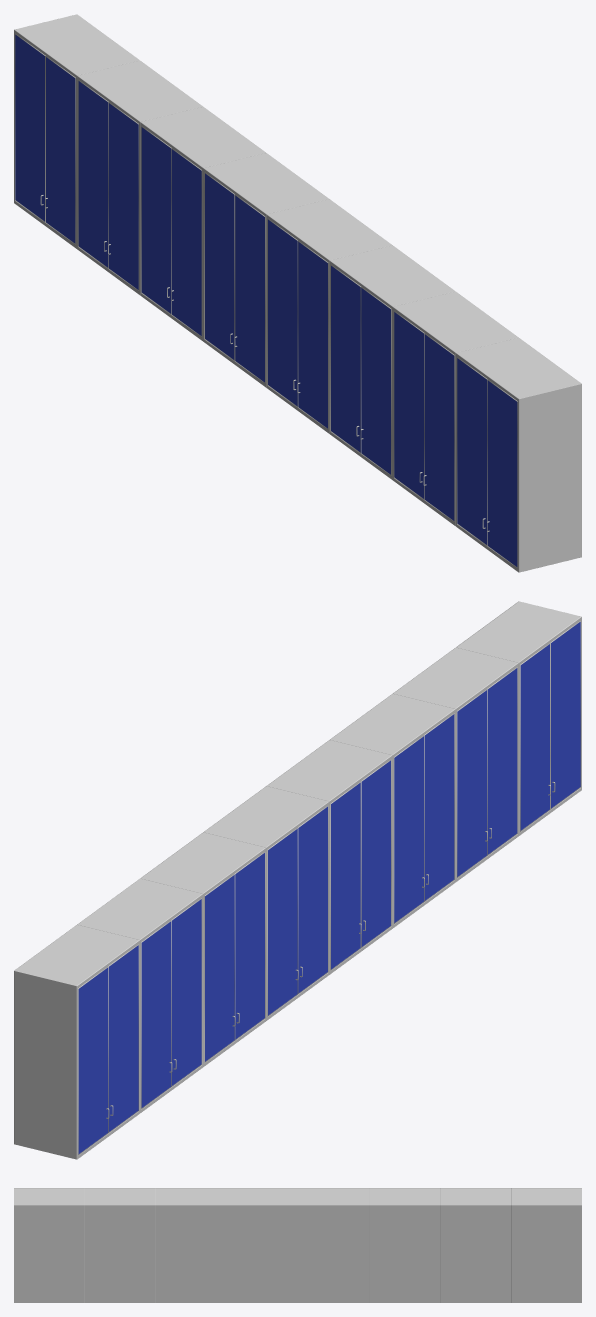
The picture shows the model from 3 angles, top to bottom: view 1: azimuth 30°, elevation 25°; view 2: azimuth 150°, elevation 25°; view 3: azimuth 270°, elevation 25°; orthographic projection. The views are drawn at different scales.
Visible parts, largest first — view 1: desktop7.022, desktop7.015, desktop7.018, desktop7.012, desktop7.021, desktop7.011, desktop7.006, desktop7.008, desktop7.003, desktop7.024, desktop7.017, desktop7.014 (+12 smaller); view 2: desktop7.001, desktop7.011, desktop7.008, desktop7.014, desktop7.004, desktop7.002, desktop7.015, desktop7.023, desktop7.020, desktop7.017, desktop7.012, desktop7.009 (+12 smaller); view 3: desktop7.022, desktop7.019, desktop7.016, desktop7.013, desktop7.010, desktop7.007, desktop7.005, desktop7.001.
Part boxes in pixels (x1,y1,x2,y2): desktop7.022: (456, 338, 581, 572); desktop7.015: (297, 240, 328, 429); desktop7.018: (360, 287, 391, 475); desktop7.012: (234, 194, 265, 382); desktop7.021: (423, 333, 454, 521); desktop7.011: (204, 172, 234, 360); desktop7.006: (108, 102, 138, 290); desktop7.008: (141, 126, 171, 314); desktop7.003: (45, 56, 75, 244); desktop7.024: (487, 379, 517, 567); desktop7.017: (330, 265, 360, 453); desktop7.014: (267, 218, 297, 406); desktop7.001: (14, 925, 139, 1159); desktop7.011: (267, 827, 298, 1016); desktop7.008: (204, 874, 235, 1062); desktop7.014: (330, 781, 361, 969); desktop7.004: (141, 920, 172, 1108); desktop7.002: (78, 966, 109, 1154); desktop7.015: (361, 759, 391, 947); desktop7.023: (520, 643, 550, 831); desktop7.020: (457, 689, 487, 877); desktop7.017: (394, 735, 424, 923); desktop7.012: (298, 805, 328, 993); desktop7.009: (235, 852, 265, 1040); desktop7.022: (14, 1188, 84, 1302); desktop7.019: (85, 1188, 155, 1302); desktop7.016: (156, 1188, 226, 1302); desktop7.013: (227, 1188, 297, 1302); desktop7.010: (298, 1188, 368, 1302); desktop7.007: (369, 1188, 439, 1302); desktop7.005: (440, 1188, 510, 1302); desktop7.001: (511, 1188, 581, 1302).
Bounding box in the file's own units: 51.83 × 131 × 692.
